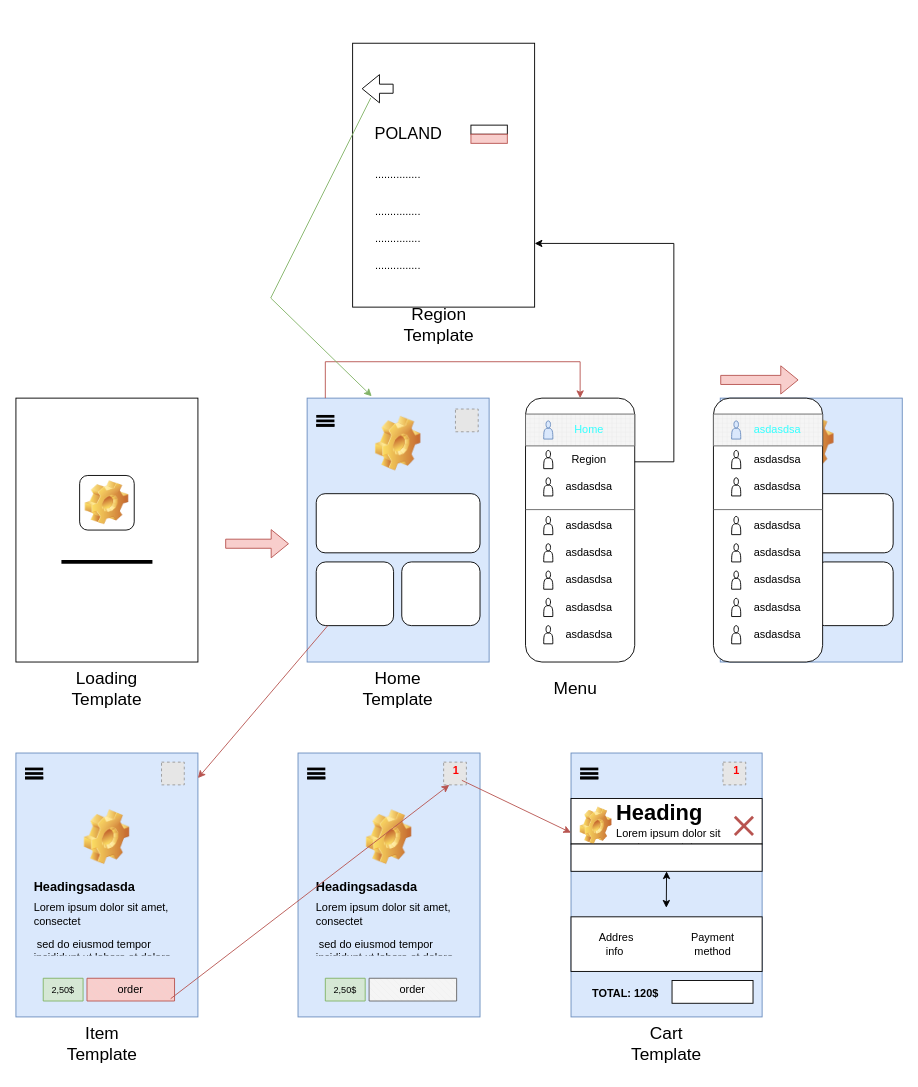
Some shapes in this 918 by 1087 pixel diagram are drawn without their labels. Grey dashed boxes stand in for pictures. The centre of each missing label's shape, as x and y in pixels:
"BUY" goes at [712,991].
"Icon" goes at [106,502].
